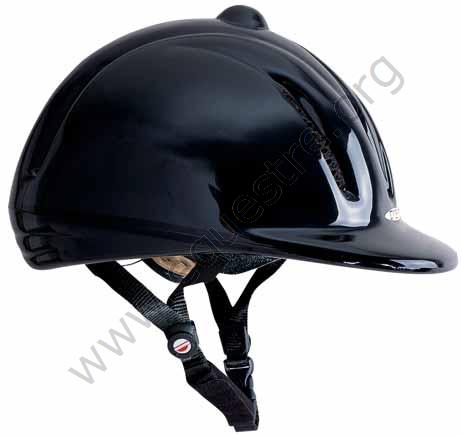helmet: (20, 34, 437, 285)
